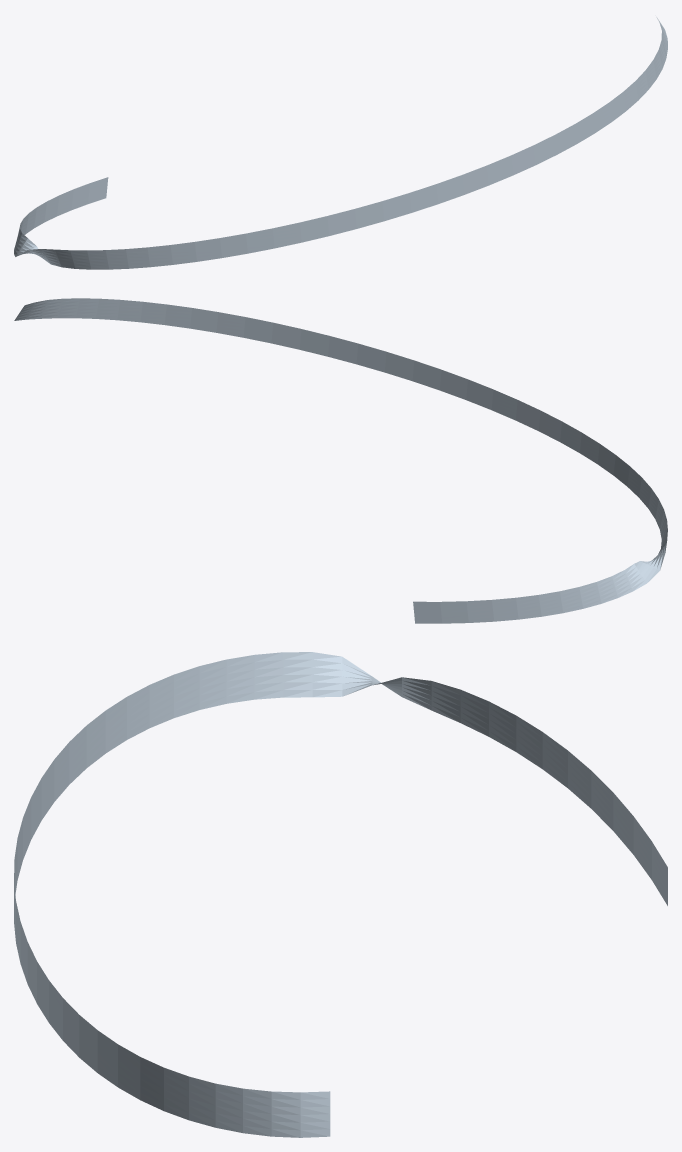
Rendered from 2084_WateryRebirth_State_OwnRebirthFlow_3.fbx.
3 views of the same model, one above another, from view 1: azimuth 30°, elevation 25°; view 2: azimuth 150°, elevation 25°; view 3: azimuth 270°, elevation 25° (orthographic). The views are drawn at different scales.
Visible parts, largest first — view 1: PART_Hydro_OwnRebirthFlow_3; view 2: PART_Hydro_OwnRebirthFlow_3; view 3: PART_Hydro_OwnRebirthFlow_3.
Part boxes in pixels (x1,y1,x2,y2): PART_Hydro_OwnRebirthFlow_3: [14, 17, 667, 269]; PART_Hydro_OwnRebirthFlow_3: [14, 298, 667, 623]; PART_Hydro_OwnRebirthFlow_3: [14, 652, 667, 1137].
Bounding box in the file's own units: 225 × 44.88 × 101.
